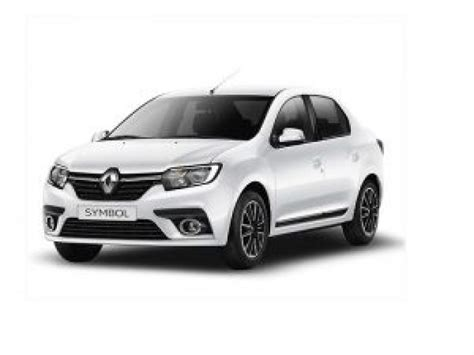car: (41, 80, 390, 266)
